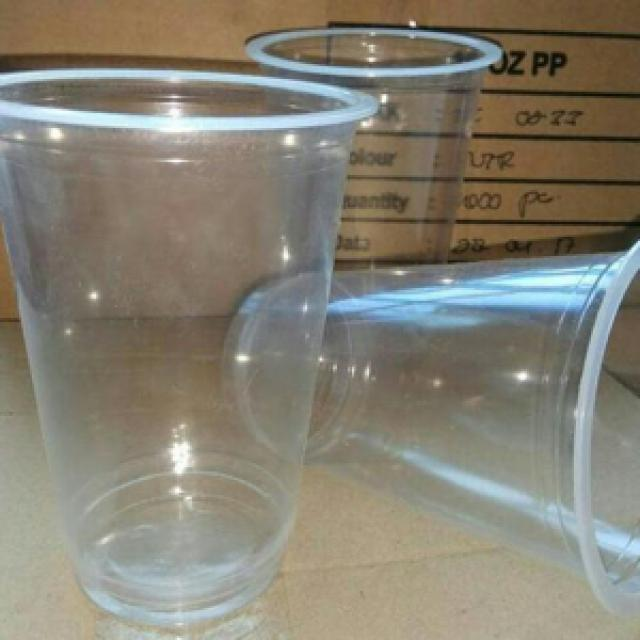plastic cup: (2, 59, 386, 634), (215, 218, 640, 632), (237, 21, 510, 290)
